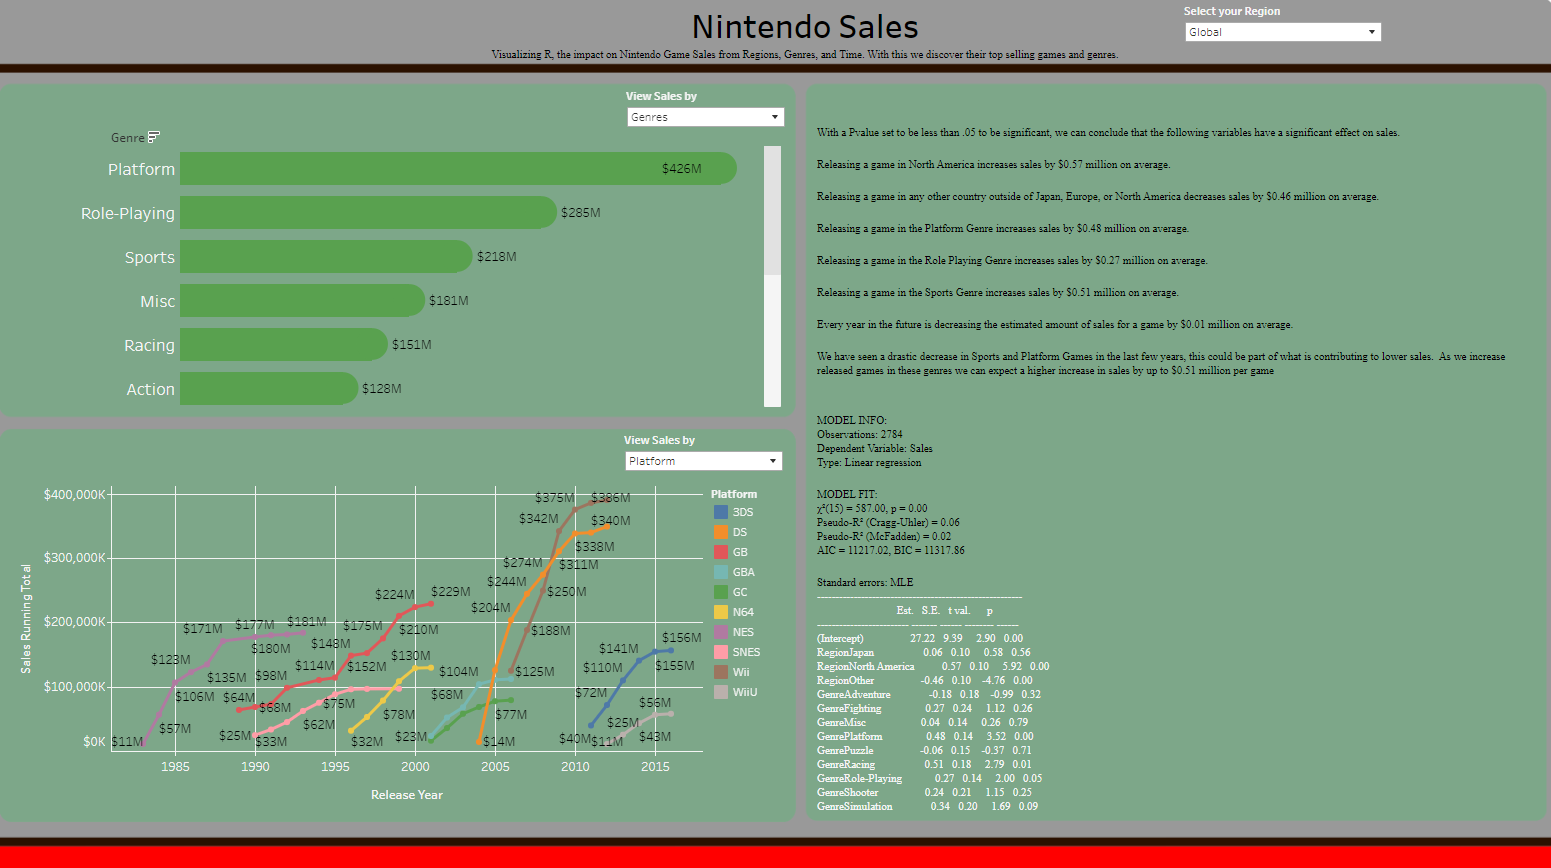

The page's visual inventory and layout, read from the dashboard file:
{"tool":"tableau","page":{"name":"Dashboard 1","canvas":[1600,900],"ordinal":0},"visuals":[{"type":"image","param":"C:/repos/github/internet_usage/tableau_background.svg","box":[0,0,1600,900]}]}

Visuals, with their boxes in screenshot pixels (x1, y1, x2, y2), scaled from the page's 1600x900 canvas onto the 1551x868 screenshot:
image: box(0, 0, 1550, 867)
